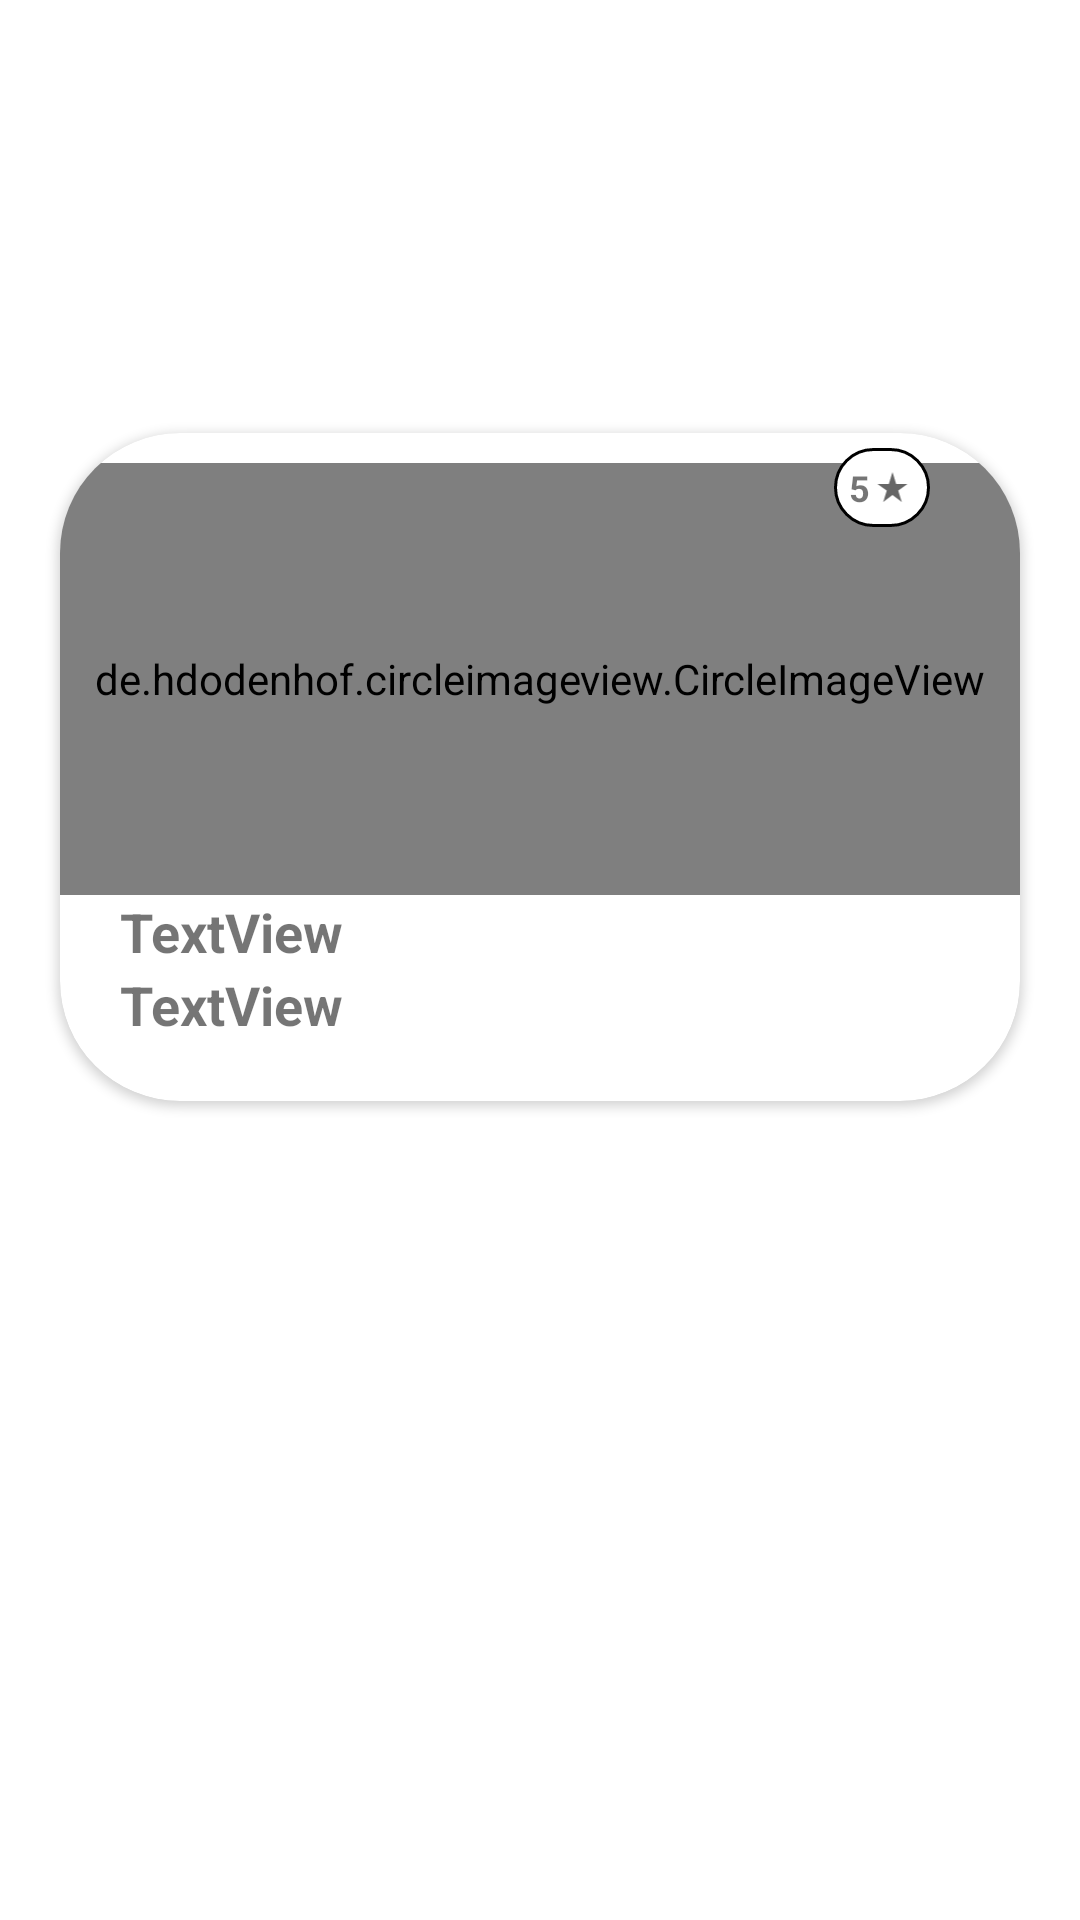

Where icons sit on this 1080px×1920px app screen, as box(x1, y1, x2, y2):
star: box(877, 473, 907, 502)
